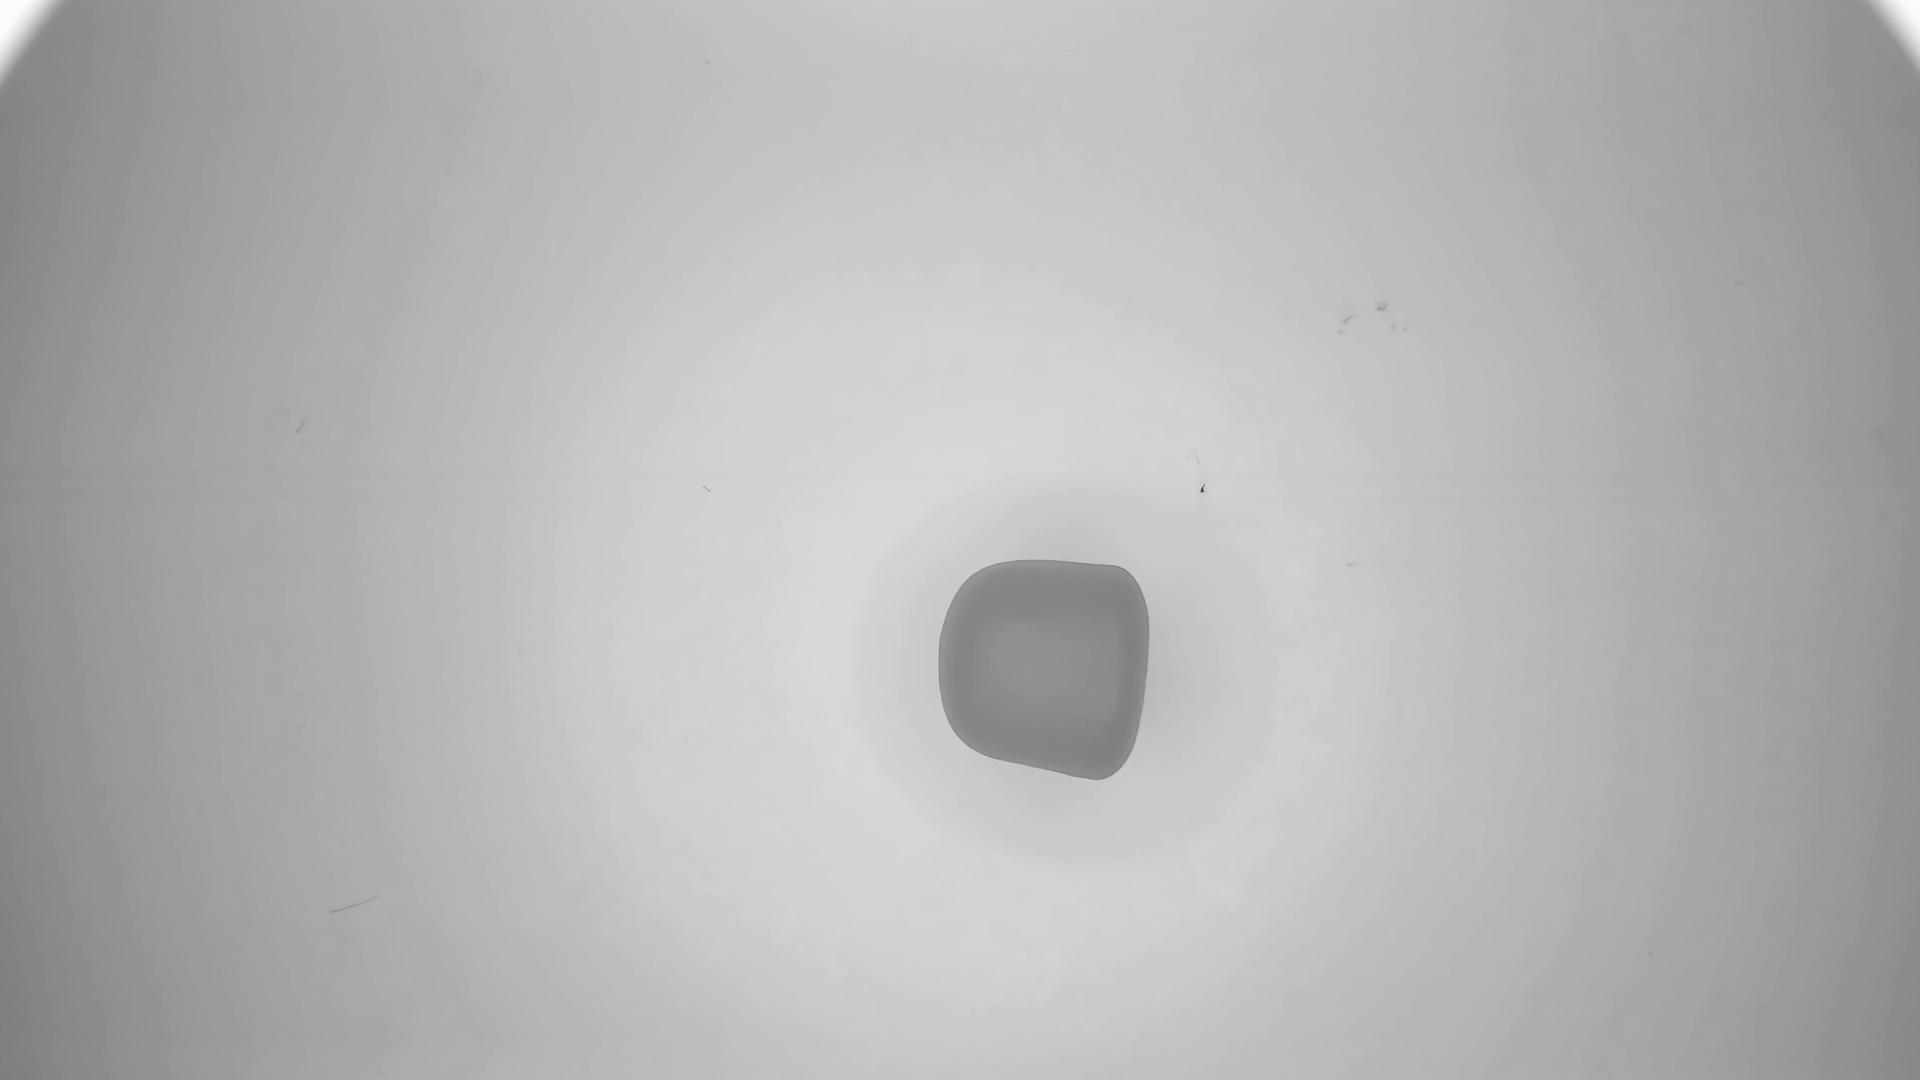normal: (938, 560, 1149, 786)
